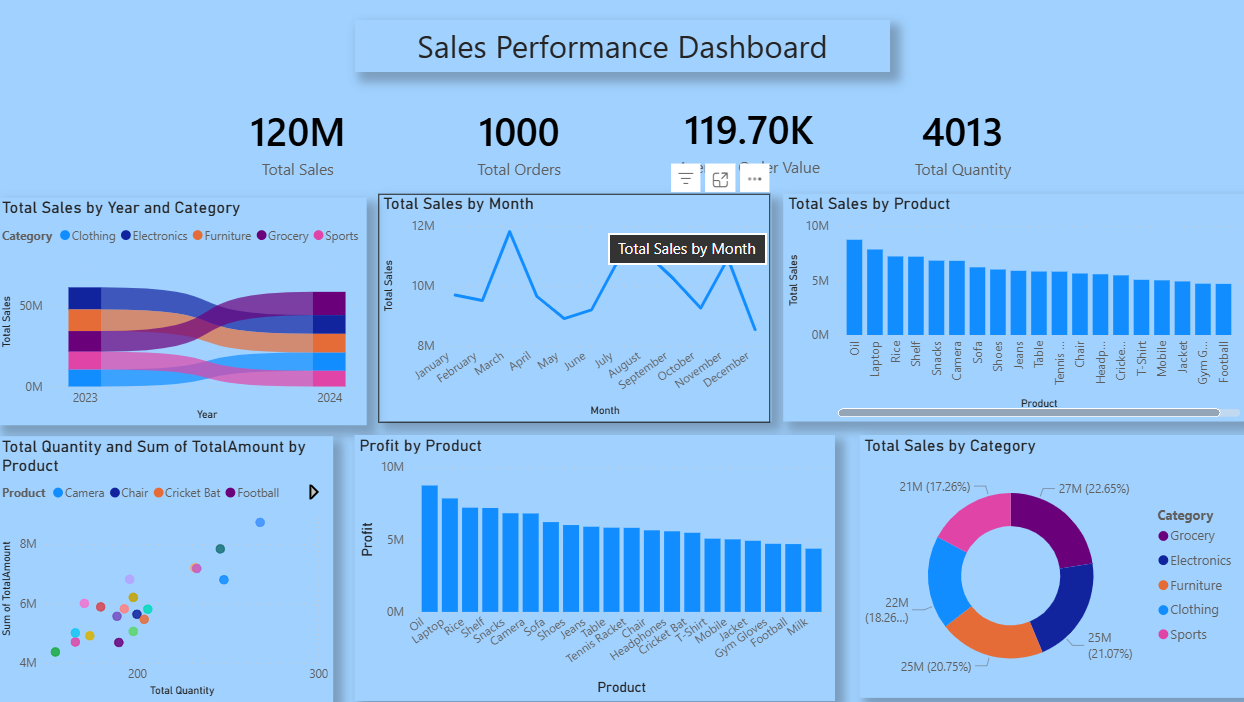

Layout of this report page (visuals, bound fields, positions):
{"tool":"powerbi","page":{"name":"Page 1","canvas":[1280,720],"ordinal":0},"visuals":[{"type":"card","fields":{"Values":["Large_Sales_Dataset.Total Sales"]},"box":[214,93.3,189.1,102],"z":0},{"type":"card","fields":{"Values":["Large_Sales_Dataset.Total Orders"]},"box":[444.1,93.3,184.1,102],"z":1000},{"type":"card","fields":{"Values":["Large_Sales_Dataset.Total Quantity"]},"box":[898.1,93.3,184.1,102],"z":2000},{"type":"card","fields":{"Values":["Large_Sales_Dataset.Average Order Value"]},"box":[673,89.6,196.5,105.7],"z":3000},{"type":"textbox","box":[367,21.1,549.8,53.5],"z":4000},{"type":"lineChart","fields":{"Y":["Large_Sales_Dataset.Total Sales"],"Category":["Large_Sales_Dataset.OrderDate.Variation.Date Hierarchy.Month"]},"box":[390.6,199,403,233.9],"z":5000},{"type":"ribbonChart","fields":{"Category":["Large_Sales_Dataset.OrderDate.Variation.Date Hierarchy.Year"],"Series":["Large_Sales_Dataset.Category"],"Y":["Large_Sales_Dataset.Total Sales"]},"box":[0,202.8,379.4,233.9],"z":6000},{"type":"clusteredColumnChart","fields":{"Category":["Large_Sales_Dataset.Product"],"Y":["Large_Sales_Dataset.Total Sales"]},"box":[806.1,199,473.9,233.9],"z":7000},{"type":"donutChart","fields":{"Y":["Large_Sales_Dataset.Total Sales"],"Category":["Large_Sales_Dataset.Category"]},"box":[884.5,446.6,395.6,269.9],"z":8000},{"type":"columnChart","fields":{"Category":["Large_Sales_Dataset.Product"],"Y":["Large_Sales_Dataset.Profit"]},"box":[367,446.6,492.6,272.4],"z":9000},{"type":"scatterChart","fields":{"X":["Large_Sales_Dataset.Total Quantity"],"Y":["Sum(Large_Sales_Dataset.TotalAmount)"],"Series":["Large_Sales_Dataset.Product"]},"box":[0,447.8,344.6,272.4],"z":10000}]}

Visuals, with their boxes in screenshot pixels (x1, y1, x2, y2), scaled from the page's 1280x720 canvas onto the 1244x702 screenshot:
card - Large_Sales_Dataset.Total Sales: 208, 91, 392, 190
card - Large_Sales_Dataset.Total Orders: 432, 91, 611, 190
card - Large_Sales_Dataset.Total Quantity: 873, 91, 1052, 190
card - Large_Sales_Dataset.Average Order Value: 654, 87, 845, 190
textbox: 357, 21, 891, 73
lineChart - Large_Sales_Dataset.Total Sales x Large_Sales_Dataset.OrderDate.Variation.Date Hierarchy.Month: 380, 194, 771, 422
ribbonChart - Large_Sales_Dataset.OrderDate.Variation.Date Hierarchy.Year x Large_Sales_Dataset.Category: 0, 198, 369, 426
clusteredColumnChart - Large_Sales_Dataset.Product x Large_Sales_Dataset.Total Sales: 783, 194, 1243, 422
donutChart - Large_Sales_Dataset.Total Sales x Large_Sales_Dataset.Category: 860, 435, 1243, 699
columnChart - Large_Sales_Dataset.Product x Large_Sales_Dataset.Profit: 357, 435, 835, 701
scatterChart - Large_Sales_Dataset.Total Quantity x Sum(Large_Sales_Dataset.TotalAmount): 0, 437, 335, 701
